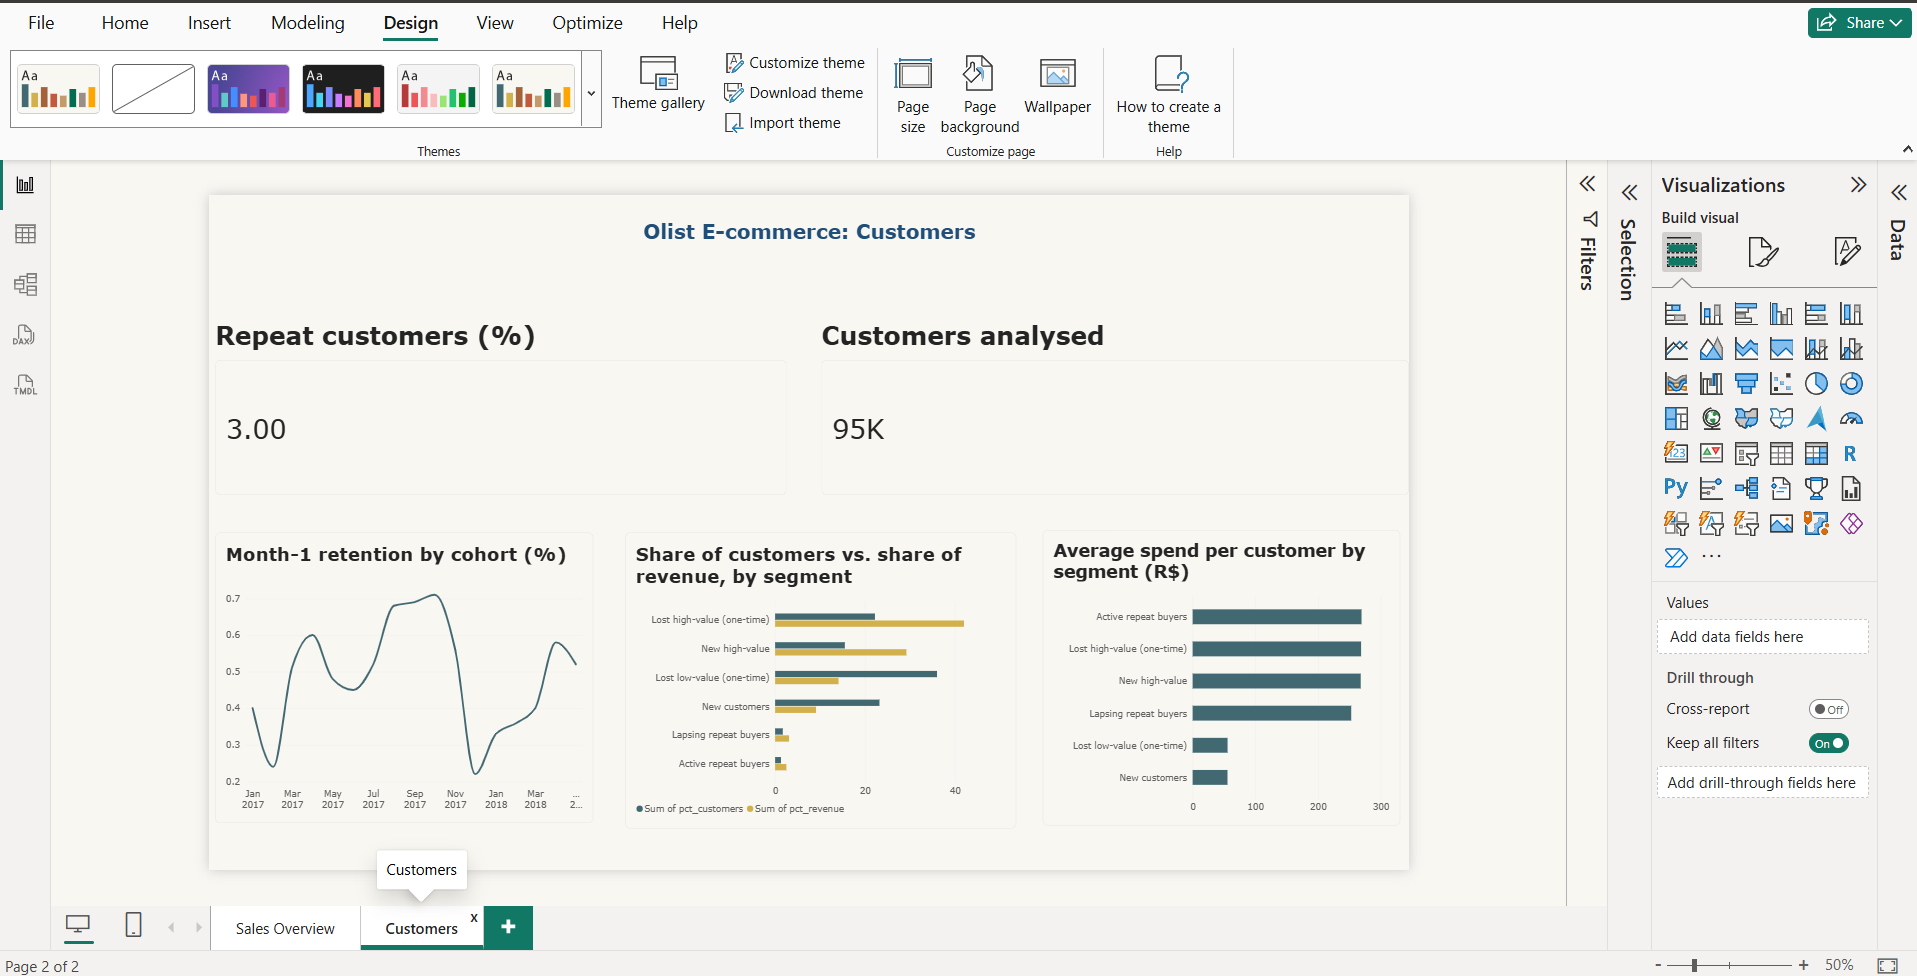

Layout of this report page (visuals, bound fields, positions):
{"tool":"powerbi","page":{"name":"Customers","canvas":[1920,1080],"ordinal":1},"visuals":[{"type":"cardVisual","title":"Repeat customers (%)","fields":{"Data":["Sum(public v_kpis.repeat_customer_pct)"]},"box":[10,200,914,280],"z":0},{"type":"cardVisual","title":"Customers analysed","fields":{"Data":["Sum(public v_rfm_segments.customers)"]},"box":[980,200,940,280],"z":1000},{"type":"lineChart","title":"Month-1 retention by cohort (%)","fields":{"Category":["public v_cohort_retention.cohort_month"],"Y":["Sum(public v_cohort_retention.m1_pct)"]},"box":[10.3,539.3,605.1,465.2],"z":3000},{"type":"clusteredBarChart","title":"Share of customers vs. share of revenue, by segment","fields":{"Category":["public v_rfm_segments.segment"],"Y":["Sum(public v_rfm_segments.pct_customers)","Sum(public v_rfm_segments.pct_revenue)"]},"box":[666.9,539.3,625.7,473.4],"z":4000},{"type":"clusteredBarChart","title":"Average spend per customer by segment (R$)","fields":{"Category":["public v_rfm_segments.segment"],"Y":["Sum(public v_rfm_segments.avg_spend)"]},"box":[1333.8,535.2,572,473],"z":5000},{"type":"textbox","box":[407.5,37,1105.3,80.3],"z":11000}]}

Visuals, with their boxes on the page's 1920x1080 design canvas (x1, y1, x2, y2). These are canvas units, not pixel positions in the 1917x976 screenshot, which may show the page scaled, cropped or inside an application window:
"Repeat customers (%)" cardVisual: bbox=(10, 200, 924, 480)
"Customers analysed" cardVisual: bbox=(980, 200, 1920, 480)
"Month-1 retention by cohort (%)" lineChart: bbox=(10, 539, 615, 1004)
"Share of customers vs. share of revenue, by segment" clusteredBarChart: bbox=(667, 539, 1293, 1013)
"Average spend per customer by segment (R$)" clusteredBarChart: bbox=(1334, 535, 1906, 1008)
textbox: bbox=(408, 37, 1513, 117)
